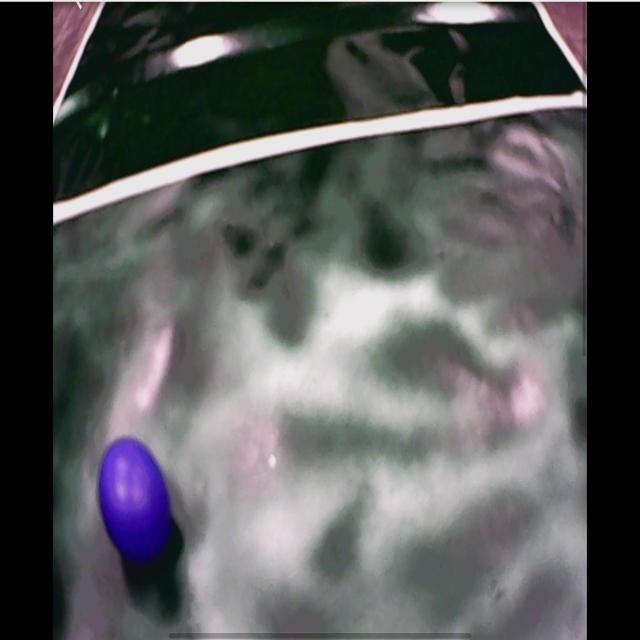ball: (97, 434, 172, 562)
